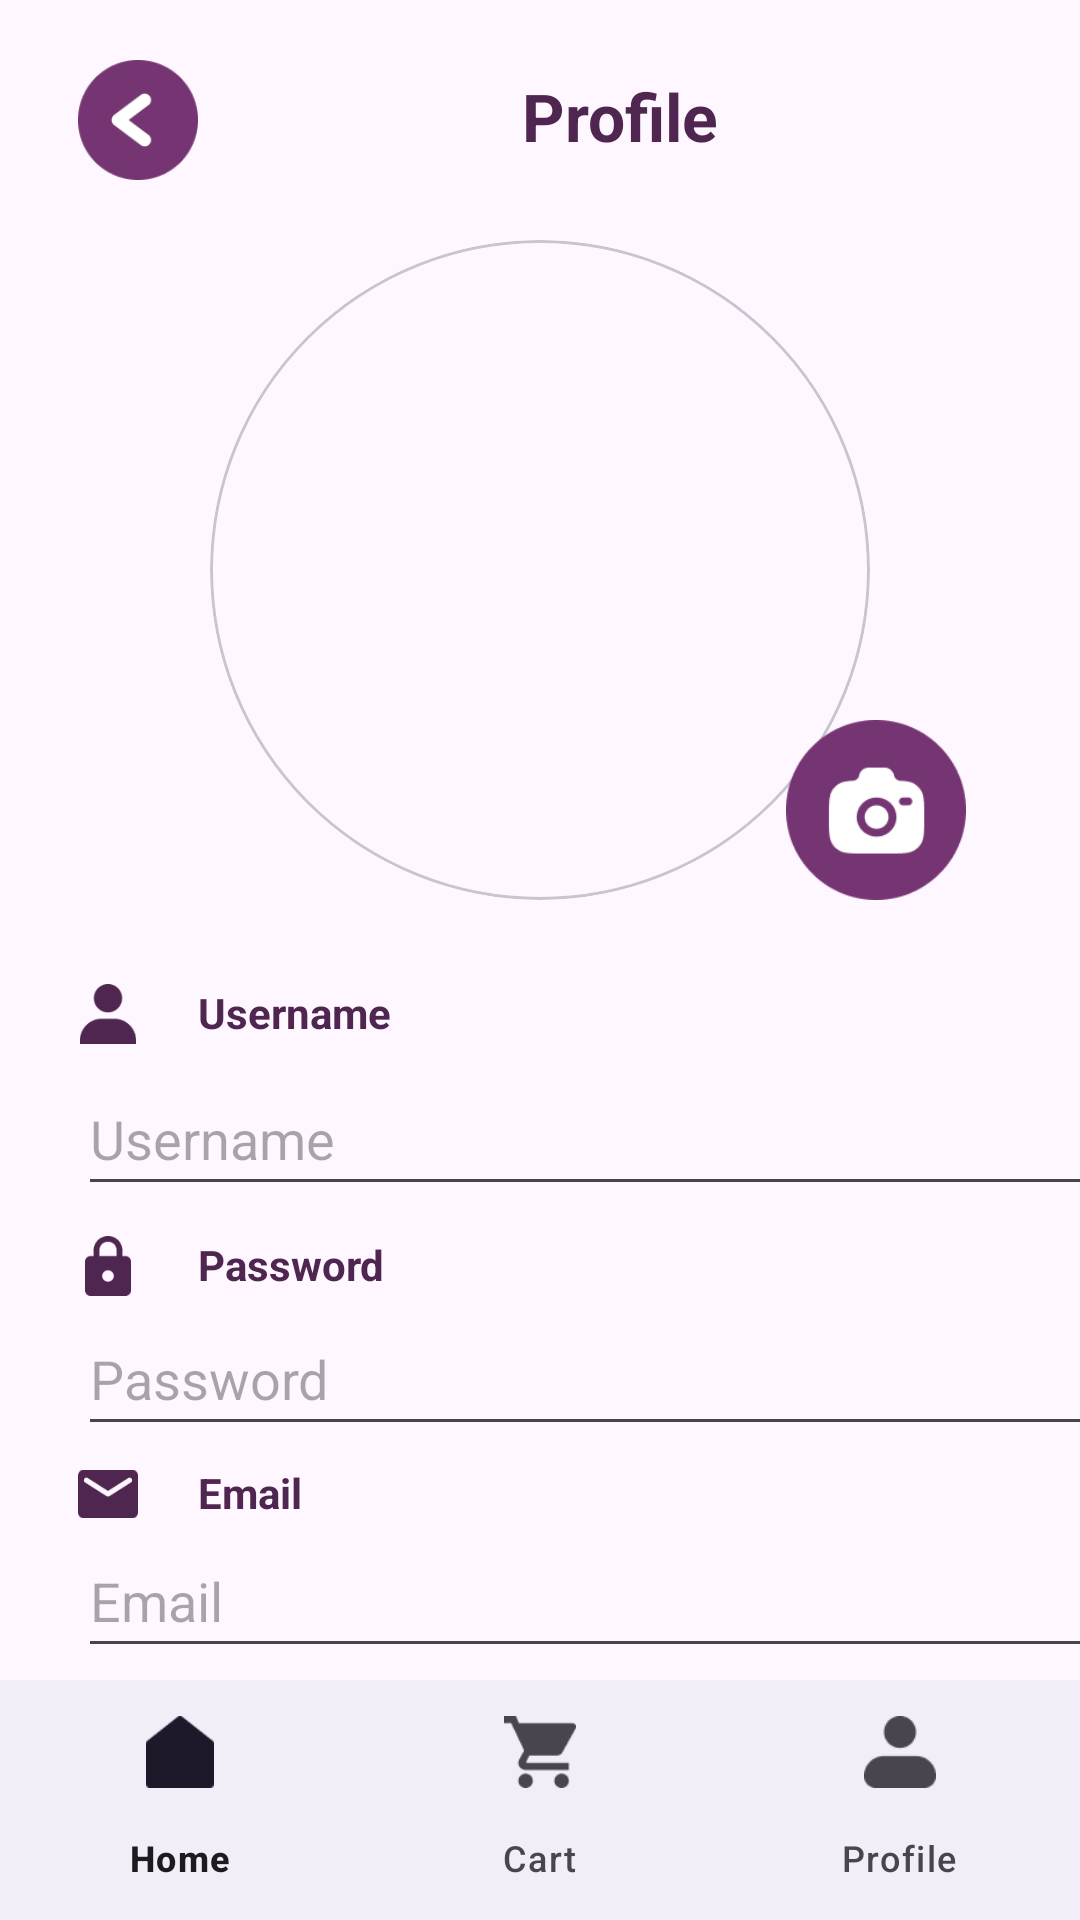

Screen size 1080 × 1920. Icon name, then its box in pixels as {"x1": x1, "y1": y1, "x2": x2, "y2": y2}:
back: {"x1": 78, "y1": 60, "x2": 198, "y2": 180}
camera: {"x1": 786, "y1": 720, "x2": 966, "y2": 900}
